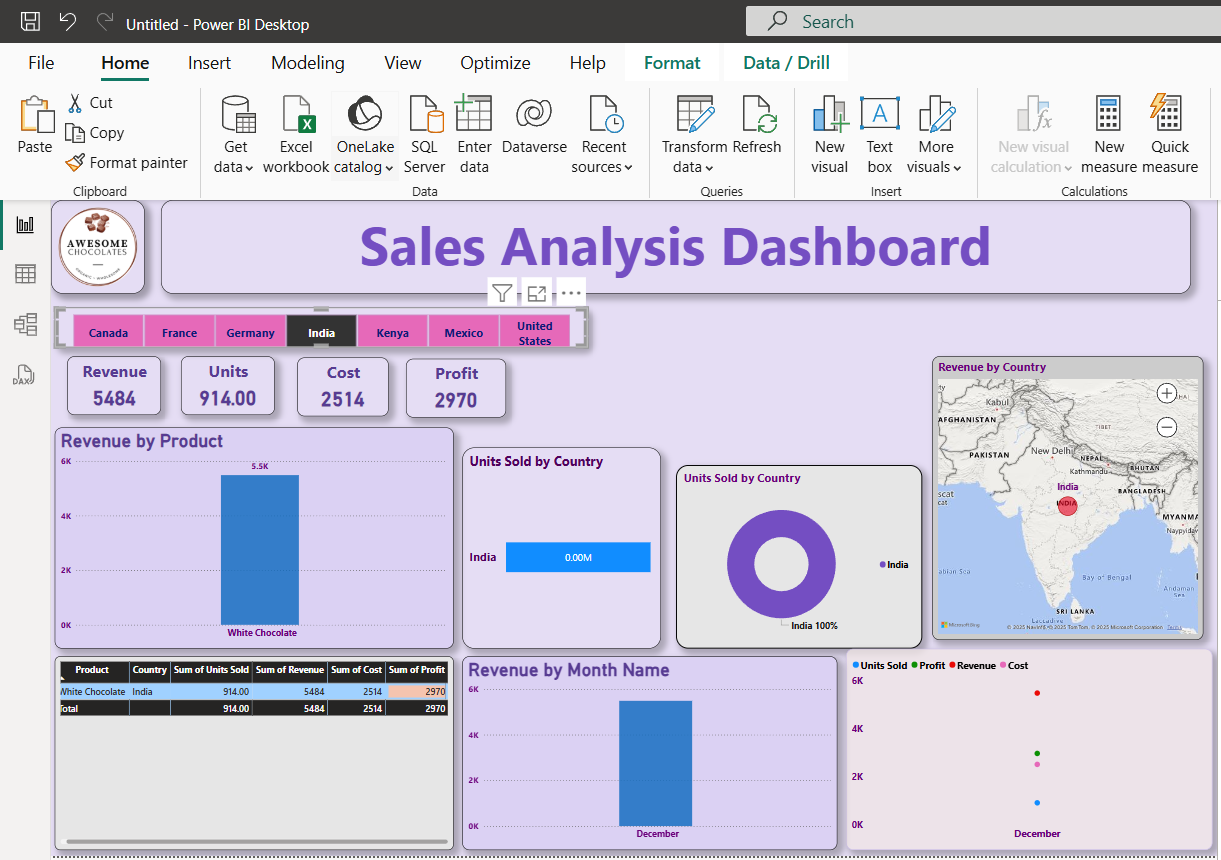

Layout of this report page (visuals, bound fields, positions):
{"tool":"powerbi","page":{"name":"Sales_DashBoard","canvas":[1920,1080],"ordinal":0},"visuals":[{"type":"image","box":[0,0,154.4,154.4],"z":0},{"type":"textbox","box":[181.1,0,1696.1,154.4],"z":1000},{"type":"card","title":"Revenue","fields":{"Values":["Sum(Sheet1.Revenue)"]},"box":[16.5,257.3,189.4,96.7],"z":2000},{"type":"card","title":"Units","fields":{"Values":["Sum(Sheet1.Units Sold)"]},"box":[236.7,259.3,189.4,96.7],"z":3000},{"type":"card","title":"Profit","fields":{"Values":["Sum(Sheet1.Profit)"]},"box":[689.5,257.3,193.5,96.7],"z":4000},{"type":"card","title":"Cost","fields":{"Values":["Sum(Sheet1.Cost)"]},"box":[459,257.3,193.5,96.7],"z":5000},{"type":"columnChart","title":"Revenue by Product","fields":{"Y":["Sum(Sheet1.Revenue)"],"Category":["Sheet1.Product"]},"box":[16.5,372.6,636,352],"z":6000},{"type":"donutChart","title":"Units Sold by Country","fields":{"Y":["Sum(Sheet1.Units Sold)"],"Category":["Sheet1.Country"]},"box":[666.9,384.9,498.1,331.4],"z":7000},{"type":"map","title":"Revenue by Country","fields":{"Size":["Sum(Sheet1.Revenue)"],"Category":["Sheet1.Country"]},"box":[1473.8,257.3,438.4,467.2],"z":8000},{"type":"lineChart","fields":{"Category":["Sheet1.Month Name"],"Y":["Sum(Sheet1.Units Sold)","Sum(Sheet1.Profit)","Sum(Sheet1.Revenue)","Sum(Sheet1.Cost)"]},"box":[1309.1,738.9,603.1,331.4],"z":9000},{"type":"tableEx","fields":{"Values":["Sheet1.Product","Sheet1.Country","Sum(Sheet1.Units Sold)","Sum(Sheet1.Revenue)","Sum(Sheet1.Cost)","Sum(Sheet1.Profit)"]},"box":[666.9,724.5,636,345.8],"z":10001},{"type":"columnChart","title":"Revenue by Month Name","fields":{"Category":["Sheet1.Month Name"],"Y":["Sum(Sheet1.Revenue)"]},"box":[16.5,738.9,636,331.4],"z":10002},{"type":"slicer","fields":{"Values":["Sheet1.Country"]},"box":[6.2,177,876.8,65.9],"z":10003},{"type":"slicer","fields":{"Values":["Sheet1.Year"]},"box":[1035.3,177,876.8,65.9],"z":10004},{"type":"funnel","title":"Units Sold by Country","fields":{"Y":["Sum(Sheet1.Units Sold)"],"Category":["Sheet1.Country"]},"box":[1181.5,261.4,275.8,454.9],"z":10005}]}

Visuals, with their boxes on the page's 1920x1080 design canvas (x1, y1, x2, y2). These are canvas units, not pixel positions in the 1221x860 screenshot, which may show the page scaled, cropped or inside an application window:
image: [left=0, top=0, right=154, bottom=154]
textbox: [left=181, top=0, right=1877, bottom=154]
"Revenue" card: [left=16, top=257, right=206, bottom=354]
"Units" card: [left=237, top=259, right=426, bottom=356]
"Profit" card: [left=690, top=257, right=883, bottom=354]
"Cost" card: [left=459, top=257, right=652, bottom=354]
"Revenue by Product" columnChart: [left=16, top=373, right=652, bottom=725]
"Units Sold by Country" donutChart: [left=667, top=385, right=1165, bottom=716]
"Revenue by Country" map: [left=1474, top=257, right=1912, bottom=724]
lineChart - Sheet1.Month Name x Sum(Sheet1.Units Sold): [left=1309, top=739, right=1912, bottom=1070]
tableEx - Sheet1.Product x Sheet1.Country: [left=667, top=724, right=1303, bottom=1070]
"Revenue by Month Name" columnChart: [left=16, top=739, right=652, bottom=1070]
slicer - Sheet1.Country: [left=6, top=177, right=883, bottom=243]
slicer - Sheet1.Year: [left=1035, top=177, right=1912, bottom=243]
"Units Sold by Country" funnel: [left=1182, top=261, right=1457, bottom=716]
